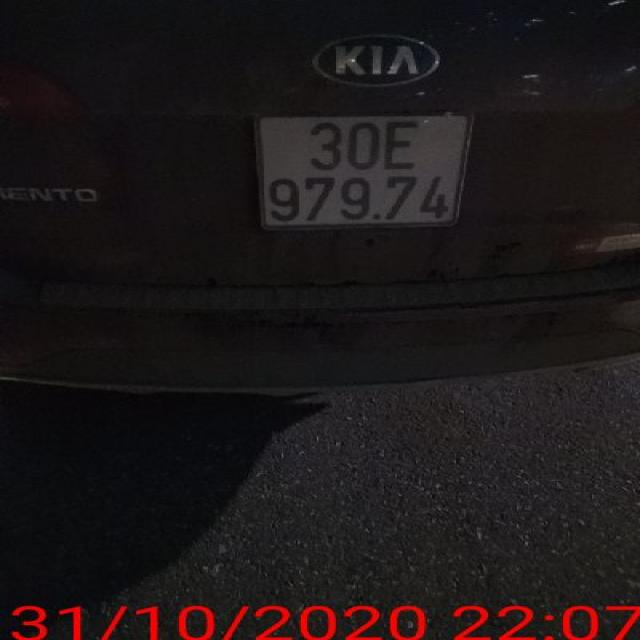biensoxehoi: (250, 111, 465, 229)
